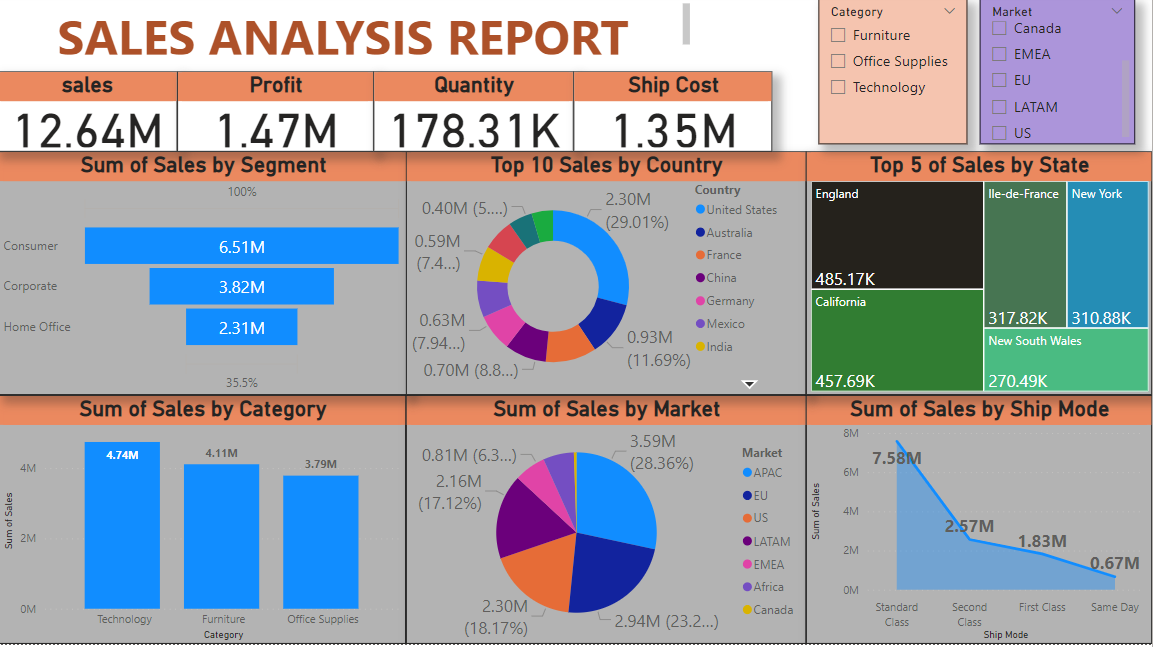

Layout of this report page (visuals, bound fields, positions):
{"tool":"powerbi","page":{"name":"sales analysis report","canvas":[1280,720],"ordinal":0},"visuals":[{"type":"columnChart","fields":{"Category":["Orders.Category"],"Y":["Sum(Orders.Sales)"]},"box":[2.8,444.3,451.2,275.4],"z":0},{"type":"pieChart","fields":{"Category":["Orders.Market"],"Y":["Sum(Orders.Sales)"]},"box":[454,444.3,442.9,275.4],"z":1000},{"type":"areaChart","fields":{"Category":["Orders.Ship Mode"],"Y":["Sum(Orders.Sales)"]},"box":[896.9,444.3,383.4,275.4],"z":2000},{"type":"funnel","fields":{"Category":["Orders.Segment"],"Y":["Sum(Orders.Sales)"]},"box":[2.8,174.4,452.6,269.9],"z":3000},{"type":"donutChart","title":"Top 10 Sales by Country","fields":{"Category":["Orders.Country"],"Y":["Sum(Orders.Sales)"]},"box":[454,174.4,442.9,269.9],"z":4000},{"type":"treemap","title":"Top 5 of Sales by State","fields":{"Group":["Orders.State"],"Values":["Sum(Orders.Sales)"]},"box":[896.9,174.4,383.4,269.9],"z":5000},{"type":"card","title":"sales","fields":{"Values":["Sum(Orders.Sales)"]},"box":[0,85.8,200.7,88.6],"z":6000},{"type":"card","title":"Profit","fields":{"Values":["Sum(Orders.Profit)"]},"box":[200.7,85.8,217.3,88.6],"z":7000},{"type":"card","title":"Quantity","fields":{"Values":["Sum(Orders.Quantity)"]},"box":[418,85.8,221.5,88.6],"z":8000},{"type":"card","title":"Ship Cost","fields":{"Values":["Sum(Orders.Shipping Cost)"]},"box":[639.4,85.8,220.1,88.6],"z":9000},{"type":"slicer","fields":{"Values":["Orders.Category"]},"box":[910.7,5.5,164.7,160.6],"z":10000},{"type":"slicer","fields":{"Values":["Orders.Market"]},"box":[1089.3,5.5,171.6,160.6],"z":11000},{"type":"textbox","box":[2.8,5.5,770.9,66.4],"z":12000}]}

Visuals, with their boxes in screenshot pixels (x1, y1, x2, y2), scaled from the page's 1280x720 canvas onto the 1153x647 screenshot:
columnChart - Orders.Category x Sum(Orders.Sales): (3, 399, 409, 646)
pieChart - Orders.Market x Sum(Orders.Sales): (409, 399, 808, 646)
areaChart - Orders.Ship Mode x Sum(Orders.Sales): (808, 399, 1152, 646)
funnel - Orders.Segment x Sum(Orders.Sales): (3, 157, 410, 399)
"Top 10 Sales by Country" donutChart: (409, 157, 808, 399)
"Top 5 of Sales by State" treemap: (808, 157, 1152, 399)
"sales" card: (0, 77, 181, 157)
"Profit" card: (181, 77, 377, 157)
"Quantity" card: (377, 77, 576, 157)
"Ship Cost" card: (576, 77, 774, 157)
slicer - Orders.Category: (820, 5, 969, 149)
slicer - Orders.Market: (981, 5, 1136, 149)
textbox: (3, 5, 697, 65)
